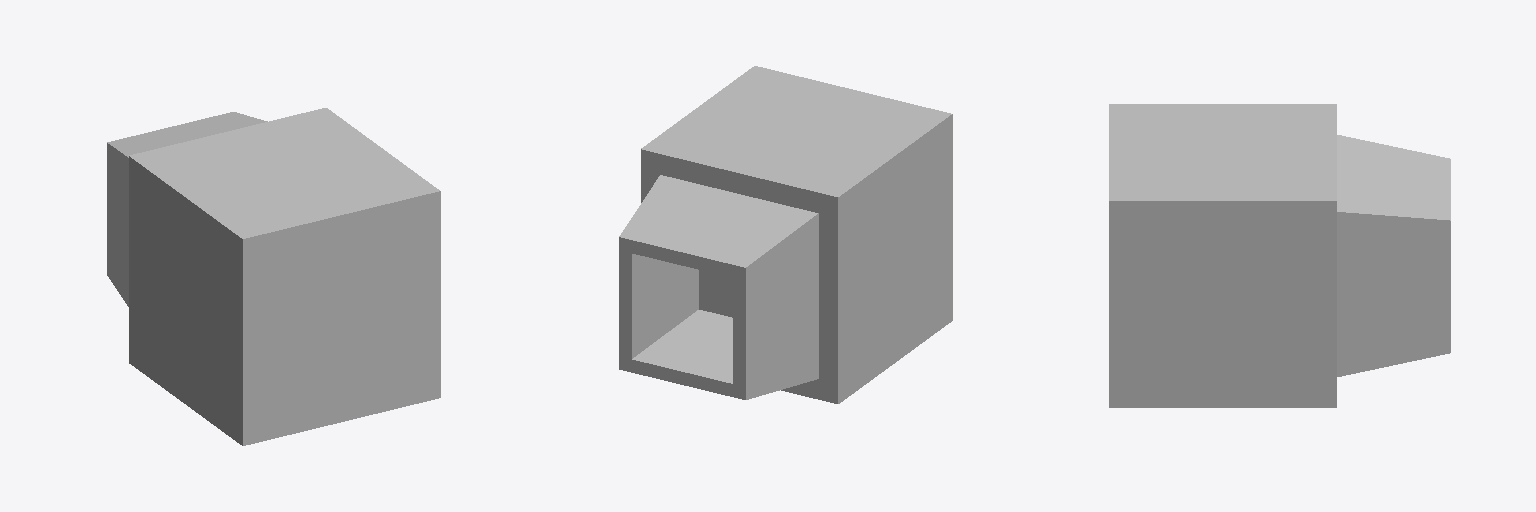
File: Thruster.obj
3 views of the same model, side by side, from view 1: azimuth 30°, elevation 25°; view 2: azimuth 150°, elevation 25°; view 3: azimuth 270°, elevation 25° (orthographic).
Visible parts, largest first — view 1: Cube.001; view 2: Cube.001; view 3: Cube.001.
Part boxes in pixels (left/top/right/bottom): Cube.001: left=107, top=108, right=440, bottom=445; Cube.001: left=619, top=66, right=952, bottom=403; Cube.001: left=1109, top=104, right=1450, bottom=407.
Bounding box in the file's own units: 2.2 × 2.2 × 3.3.